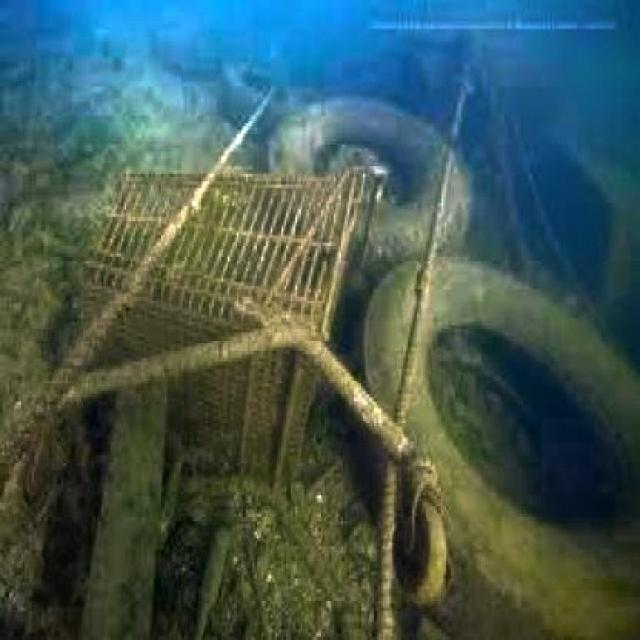metal: (67, 152, 395, 525)
tire: (367, 257, 640, 640), (252, 68, 480, 344)
